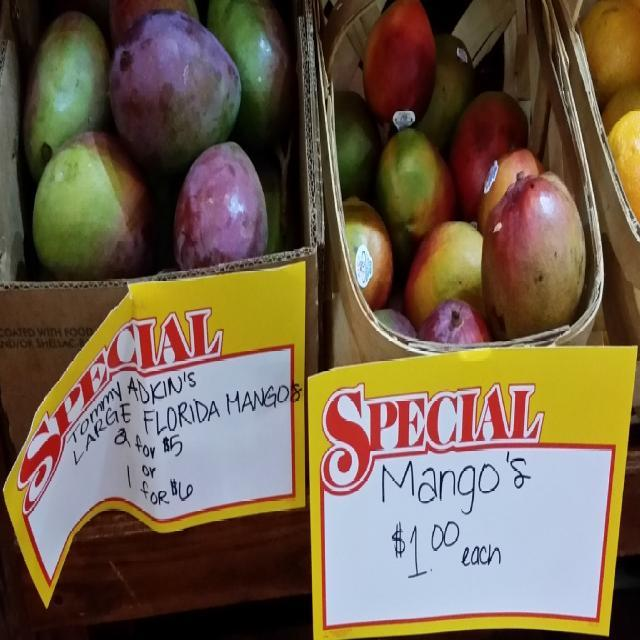Mango: (335, 0, 585, 344), (22, 0, 288, 274), (110, 9, 241, 168)
